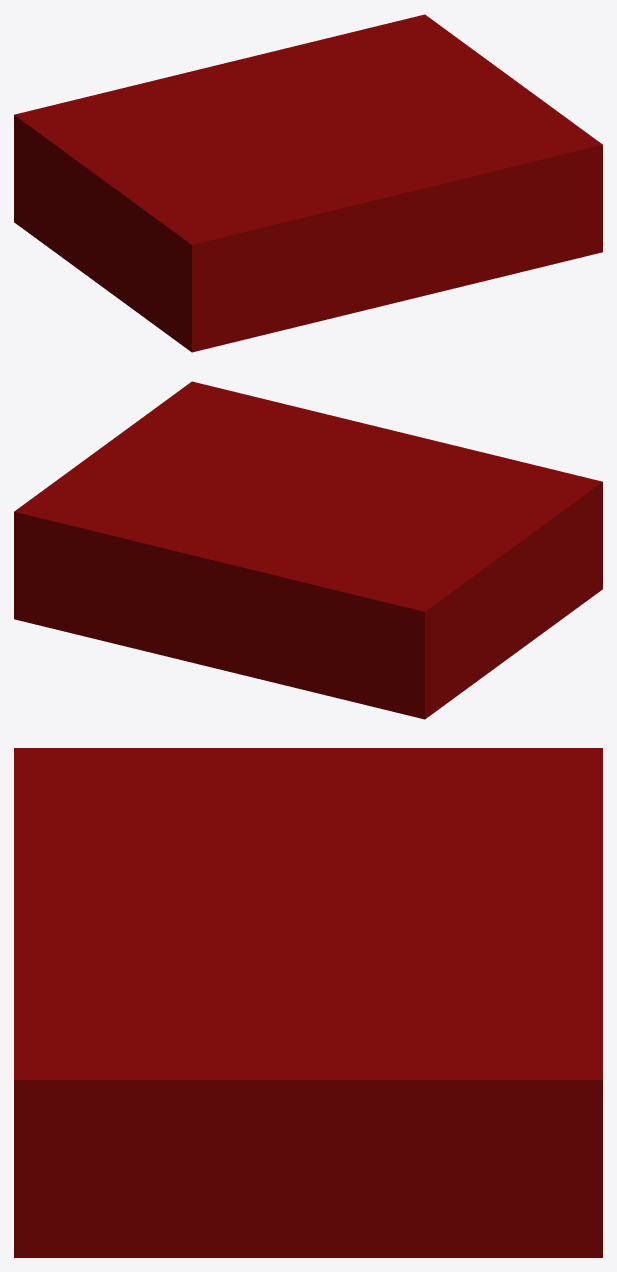
The model's file is IsaacSubnormal.fbx.
The picture shows the model from 3 angles, top to bottom: view 1: azimuth 30°, elevation 25°; view 2: azimuth 150°, elevation 25°; view 3: azimuth 270°, elevation 25°; orthographic projection. The views are drawn at different scales.
Parts seen in each view (by area): view 1: VoxelMesh(Clone); view 2: VoxelMesh(Clone); view 3: VoxelMesh(Clone).
Boxes of the visible parts, x1,y1,x2,y2 form: VoxelMesh(Clone): (14, 14, 602, 352); VoxelMesh(Clone): (14, 381, 602, 719); VoxelMesh(Clone): (14, 748, 602, 1257).
Size of the model in its own units: 4 by 1 by 3.
